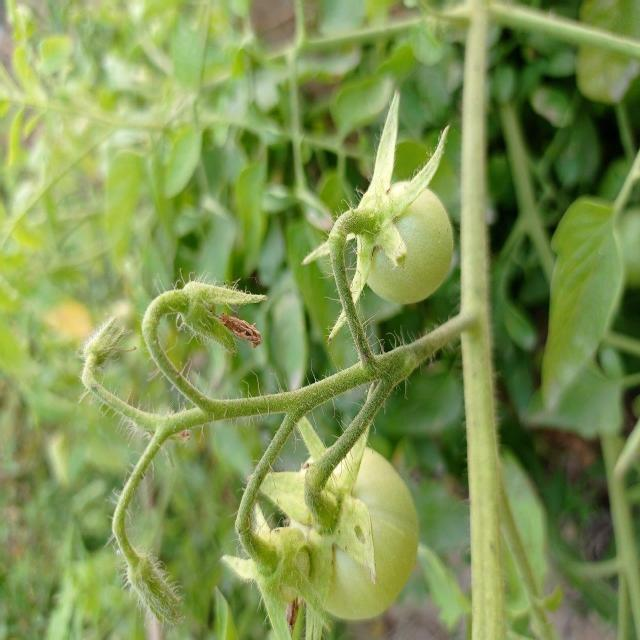Unripe: (307, 446, 420, 623), (357, 176, 454, 306)
